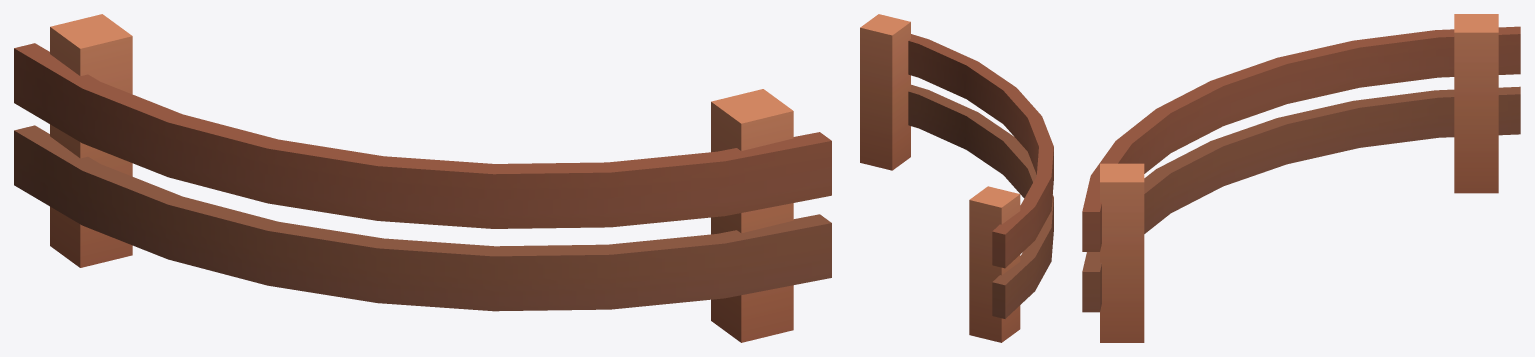
File: kenney-platformer-fence-corner-curved.glb
3 renders of one model, left to right at view 1: azimuth 30°, elevation 25°; view 2: azimuth 150°, elevation 25°; view 3: azimuth 270°, elevation 25°, orthographic. The views are drawn at different scales.
Visible parts, largest first — view 1: fence-corner-curved; view 2: fence-corner-curved; view 3: fence-corner-curved.
Part boxes in pixels (box(x1,y1,x2,y2)): fence-corner-curved: box(14, 14, 831, 342); fence-corner-curved: box(860, 14, 1053, 342); fence-corner-curved: box(1082, 14, 1520, 342).
Bounding box in the file's own units: 0.99 × 0.3999 × 0.99.
Materials: 1 (1 with a texture image).
